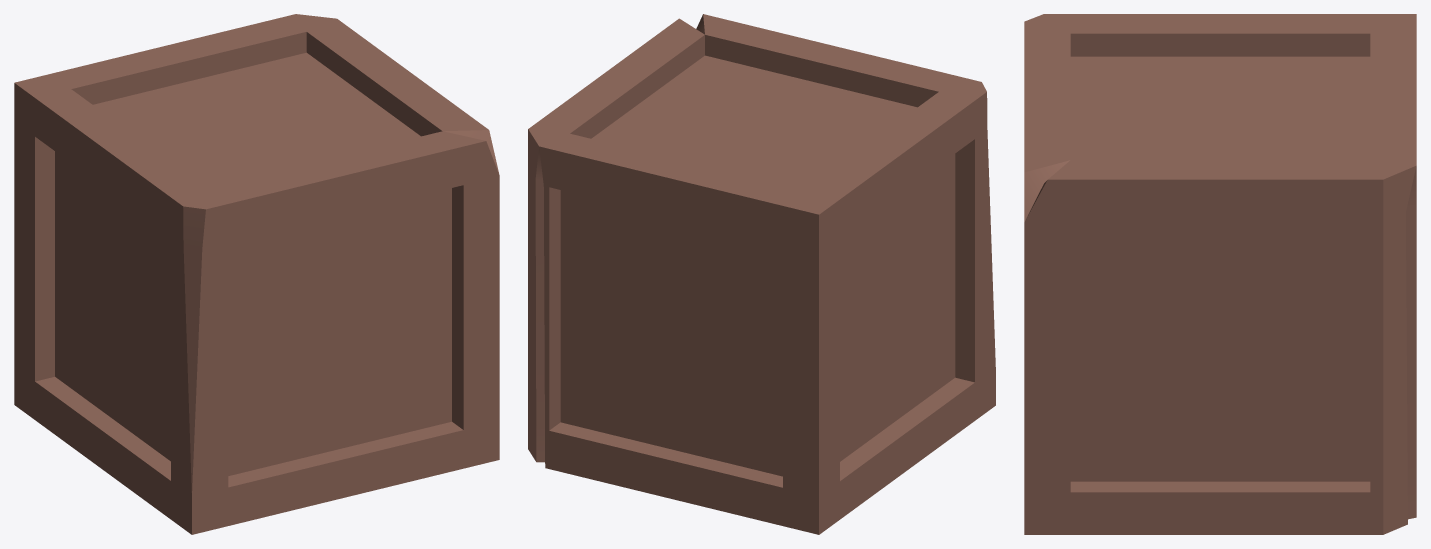
Rendered from SM_Crate_01.fbx.
3 views of the same model, side by side, from view 1: azimuth 30°, elevation 25°; view 2: azimuth 150°, elevation 25°; view 3: azimuth 270°, elevation 25° (orthographic). The views are drawn at different scales.
Visible parts, largest first — view 1: Crate_01; view 2: Crate_01; view 3: Crate_01.
Part boxes in pixels (box(x1,y1,x2,y2)): Crate_01: box(14, 14, 499, 534); Crate_01: box(528, 14, 995, 534); Crate_01: box(1024, 14, 1416, 534).
Size of the model in its own units: 37.89 by 37.89 by 37.89.
